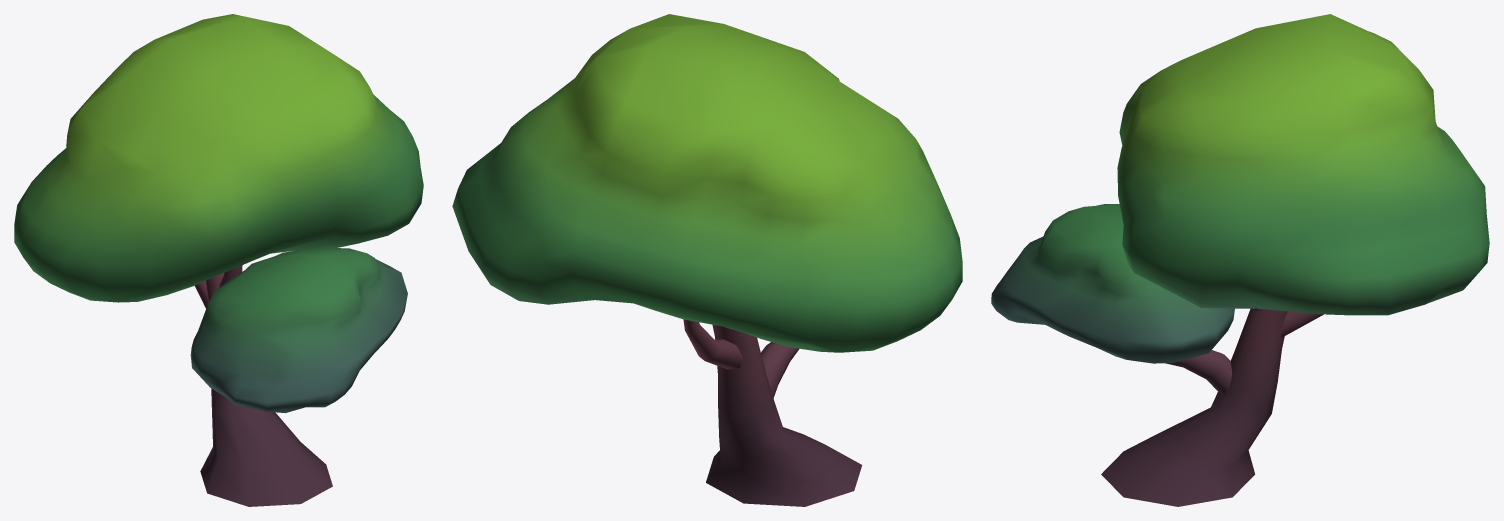
The model's file is Tree_026.fbx.
3 views of the same model, side by side, from view 1: azimuth 30°, elevation 25°; view 2: azimuth 150°, elevation 25°; view 3: azimuth 270°, elevation 25° (orthographic). The views are drawn at different scales.
Visible parts, largest first — view 1: Tree.026; view 2: Tree.026; view 3: Tree.026.
Part boxes in pixels (<box>): Tree.026: <box>14,14,423,506</box>; Tree.026: <box>452,14,962,506</box>; Tree.026: <box>991,14,1489,506</box>.
Size of the model in its own units: 6.58 by 6.64 by 6.65.
